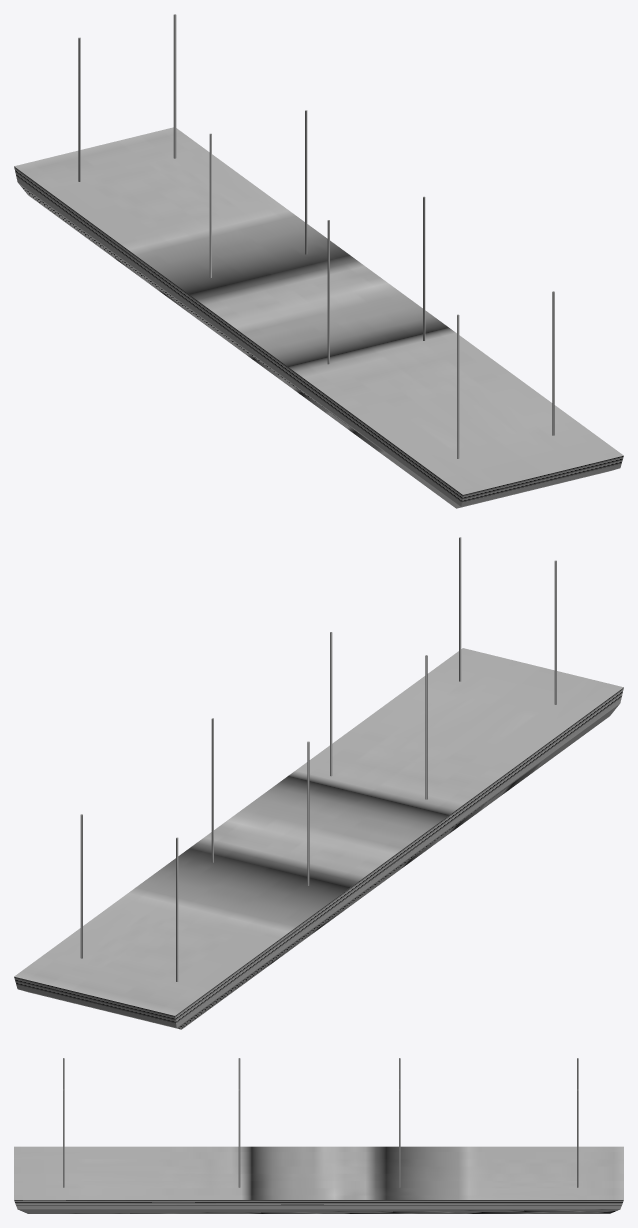
The model's file is lampara.glb.
3 views of the same model, one above another, from view 1: azimuth 30°, elevation 25°; view 2: azimuth 150°, elevation 25°; view 3: azimuth 270°, elevation 25° (orthographic). The views are drawn at different scales.
Parts seen in each view (by area): view 1: Cubo.027; view 2: Cubo.027; view 3: Cubo.027.
Boxes of the visible parts, <box> form: Cubo.027: <box>14,14,623,508</box>; Cubo.027: <box>14,537,623,1029</box>; Cubo.027: <box>14,1058,623,1213</box>.
Size of the model in its own units: 0.558 by 0.5551 by 2.7.
Materials: 1 (1 with a texture image).
